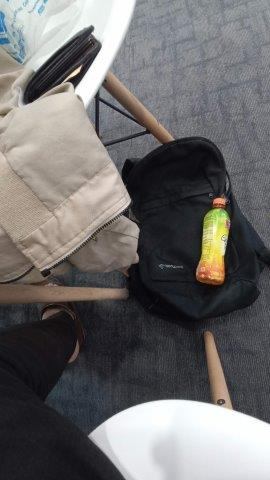botolplastik: (196, 198, 230, 284)
